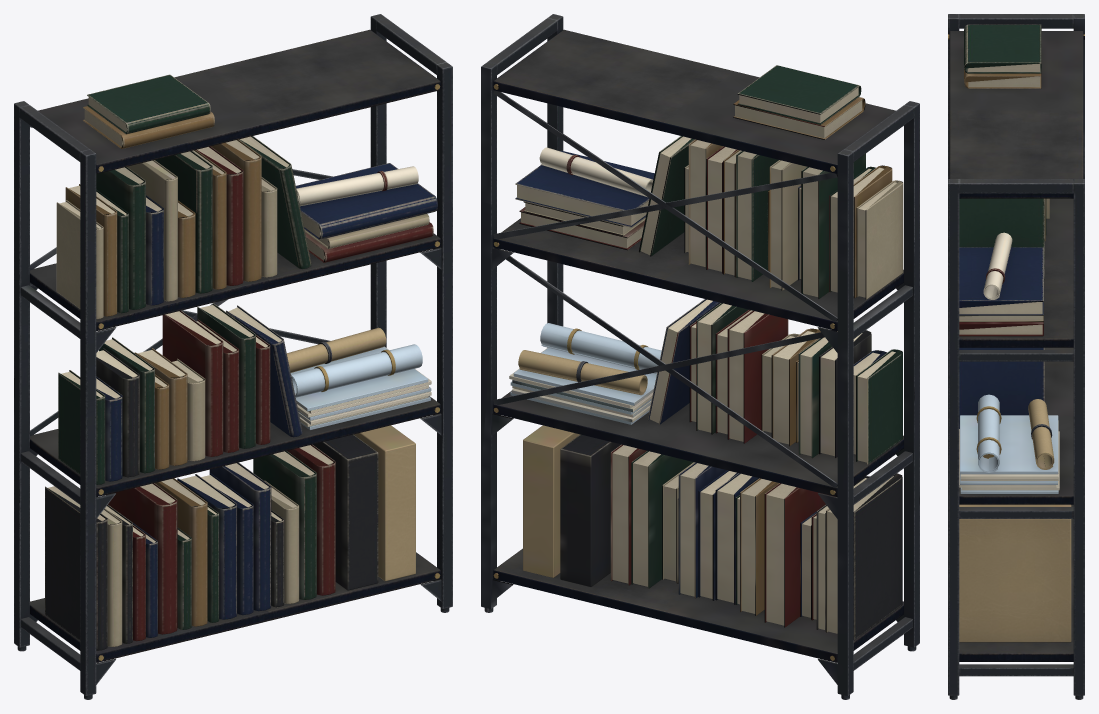
3 renders of one model, left to right at view 1: azimuth 30°, elevation 25°; view 2: azimuth 150°, elevation 25°; view 3: azimuth 270°, elevation 25°, orthographic. The views are drawn at different scales.
Visible parts, largest first — view 1: studio-shelves; view 2: studio-shelves; view 3: studio-shelves.
Part boxes in pixels (x1,y1,x2,y2): studio-shelves: [14, 14, 452, 699]; studio-shelves: [481, 14, 919, 699]; studio-shelves: [948, 14, 1084, 699].
Size of the model in its own units: 0.88 by 1.28 by 0.3.
1 material, 1 textured.
